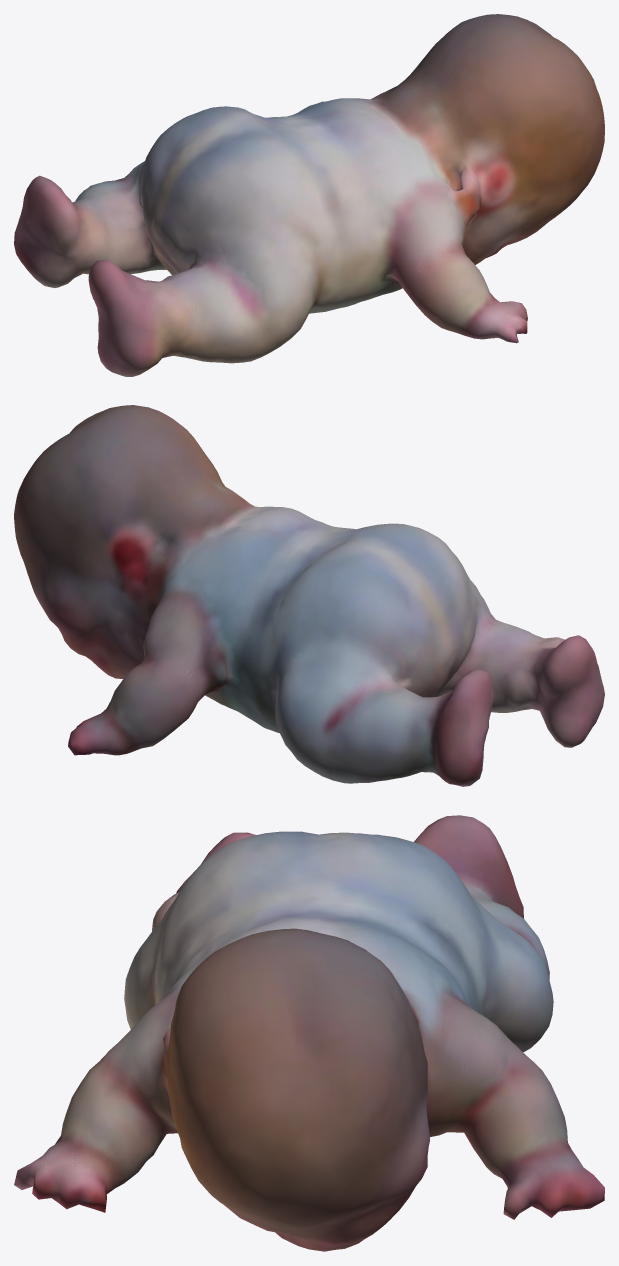
Rendered from baby_0426200650_preview.fbx.
3 renders of one model, top to bottom at view 1: azimuth 30°, elevation 25°; view 2: azimuth 150°, elevation 25°; view 3: azimuth 270°, elevation 25°, orthographic. The views are drawn at different scales.
Visible parts, largest first — view 1: Mesh1; view 2: Mesh1; view 3: Mesh1.
Part boxes in pixels (x1,y1,x2,y2): Mesh1: [14, 14, 604, 376]; Mesh1: [14, 405, 604, 786]; Mesh1: [14, 815, 604, 1251].
Bounding box in the file's own units: 120 × 51.76 × 87.11.
Materials: 1 (1 with a texture image).
